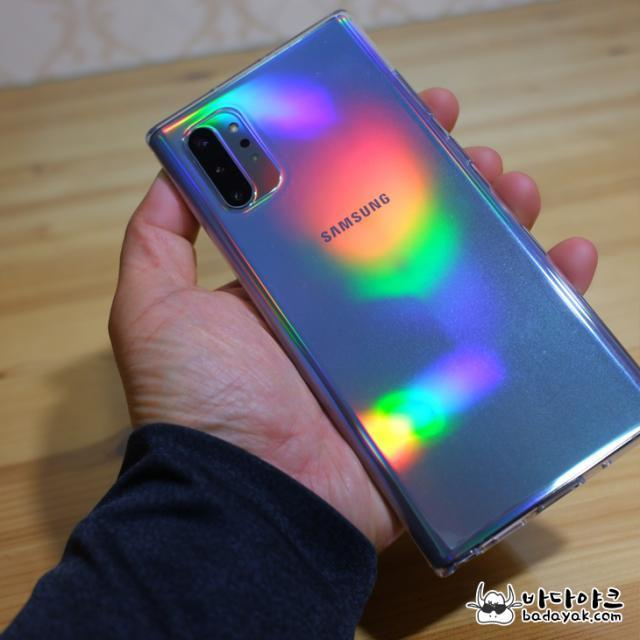lens: (177, 107, 287, 221)
phone: (143, 5, 640, 577)
